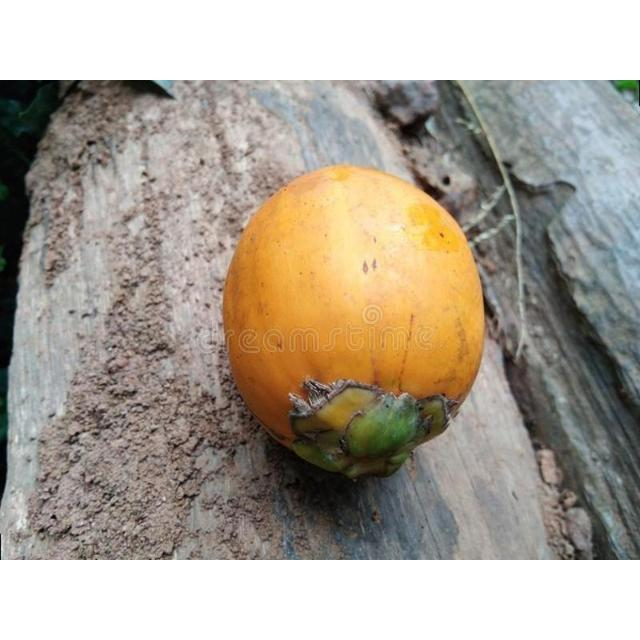good: (222, 165, 488, 482)
